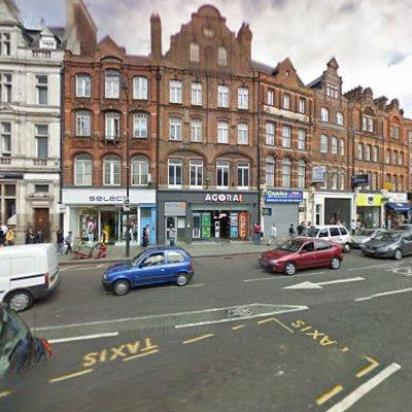moving-car: (0, 298, 58, 402), (100, 244, 196, 300), (258, 236, 346, 276), (358, 228, 412, 260), (293, 225, 351, 252)
moving-light-truck: (0, 242, 61, 314)
stationary-car-onstreet: (348, 225, 387, 250)
